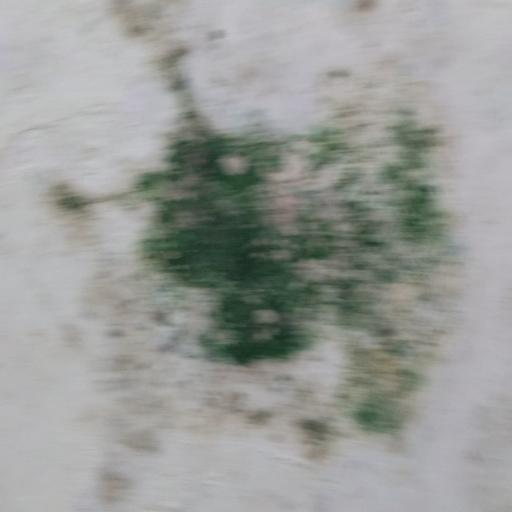algae: (56, 38, 449, 441)
